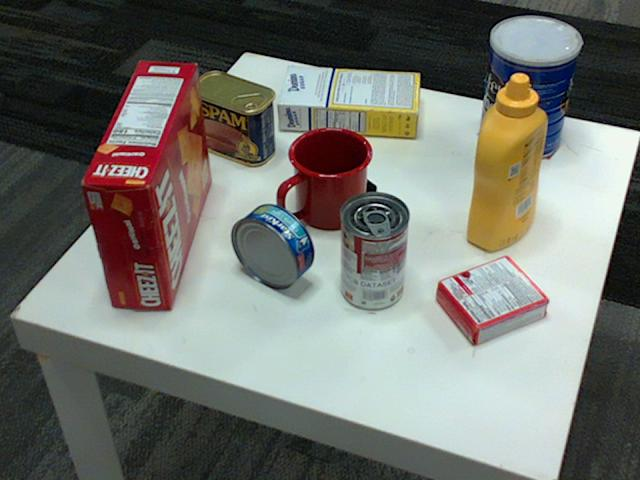cracker_box: (80, 58, 212, 306)
gelatin_box: (435, 256, 550, 345)
large_marker: (308, 139, 375, 197)
master_chef_can: (478, 16, 580, 161)
mug: (280, 124, 374, 227)
mustard_bottle: (465, 74, 547, 250)
potted_meat_can: (188, 72, 276, 165)
sugar_box: (278, 66, 422, 136)
tomato_soup_can: (340, 192, 410, 310)
tuna_fish_can: (232, 204, 315, 289)
